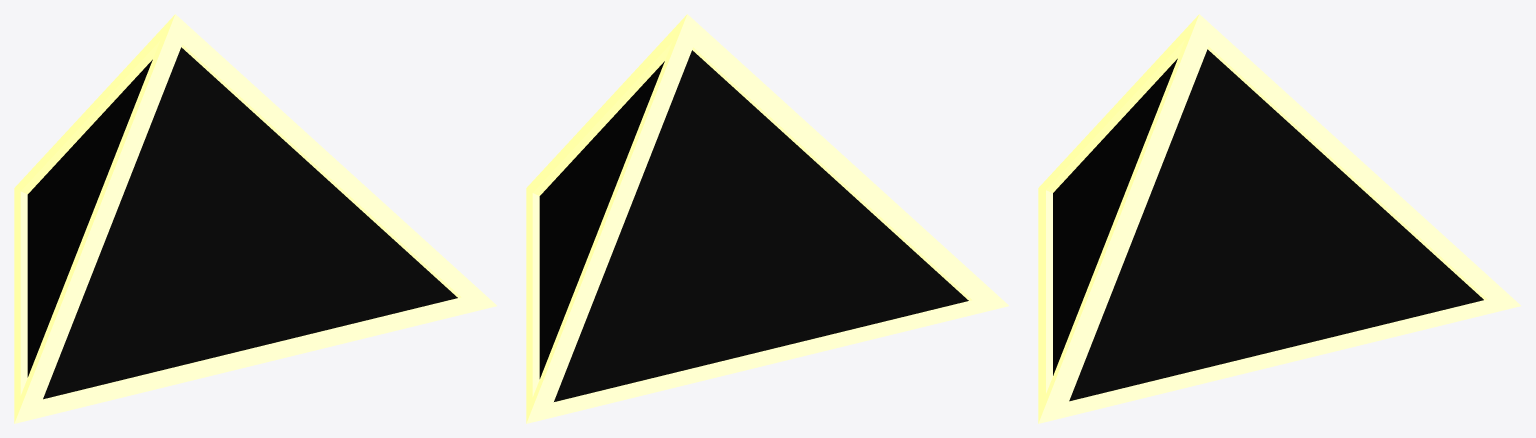
Rendered from SFI0310010.fbx.
3 views of the same model, side by side, from view 1: azimuth 30°, elevation 25°; view 2: azimuth 150°, elevation 25°; view 3: azimuth 270°, elevation 25° (orthographic).
Visible parts, largest first — view 1: smSFI0310010; view 2: smSFI0310010; view 3: smSFI0310010.
Boxes of the visible parts, x1=… form: smSFI0310010: x1=14, y1=14, x2=496, y2=423; smSFI0310010: x1=526, y1=14, x2=1008, y2=423; smSFI0310010: x1=1038, y1=14, x2=1520, y2=423.
Bounding box in the file's own units: 173 × 100 × 150.
